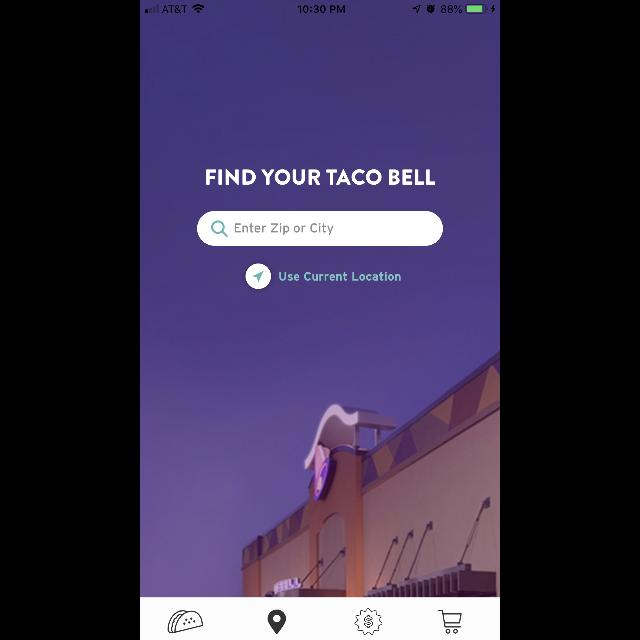backgroundimage: (140, 0, 500, 598)
icon: (354, 608, 382, 634), (245, 264, 271, 290), (438, 610, 462, 634), (268, 610, 286, 634), (212, 221, 228, 237)
image: (168, 610, 204, 634)
input: (198, 212, 442, 246)
text: (207, 169, 436, 185), (279, 272, 401, 282), (234, 223, 334, 235)
uppertaskbar: (140, 0, 500, 14)
